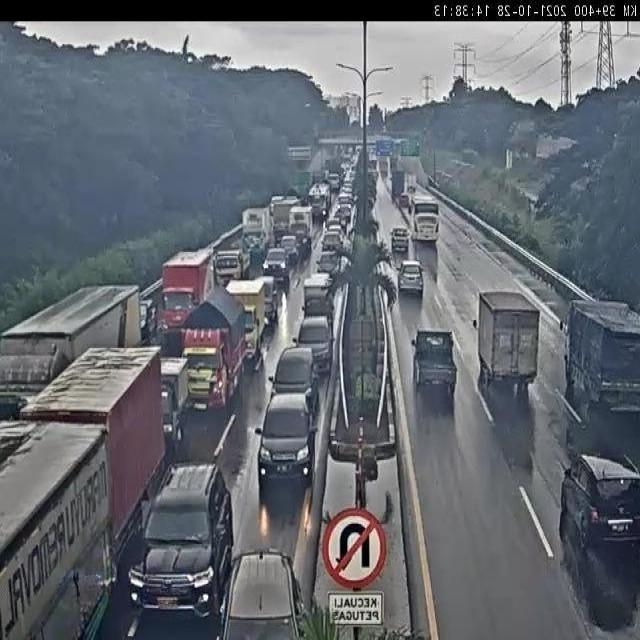Bus: (410, 192, 439, 243)
Car: (128, 461, 235, 621), (218, 548, 310, 639), (559, 453, 640, 556), (255, 392, 318, 484), (268, 346, 318, 416), (294, 314, 333, 382), (262, 247, 292, 289), (255, 273, 279, 324), (396, 260, 424, 296), (316, 250, 340, 280), (279, 235, 300, 268), (321, 230, 343, 256), (391, 226, 410, 253), (398, 192, 411, 209)
Truck: (15, 349, 164, 563), (0, 418, 118, 640), (1, 282, 141, 420), (556, 297, 640, 416), (177, 283, 251, 411), (476, 291, 541, 396), (157, 247, 220, 346), (225, 278, 272, 366), (410, 328, 460, 395), (158, 355, 190, 446), (241, 206, 272, 264), (213, 243, 251, 286), (271, 198, 302, 242), (289, 205, 314, 259), (303, 272, 335, 311), (308, 182, 331, 220), (391, 168, 406, 196), (406, 170, 418, 192)
